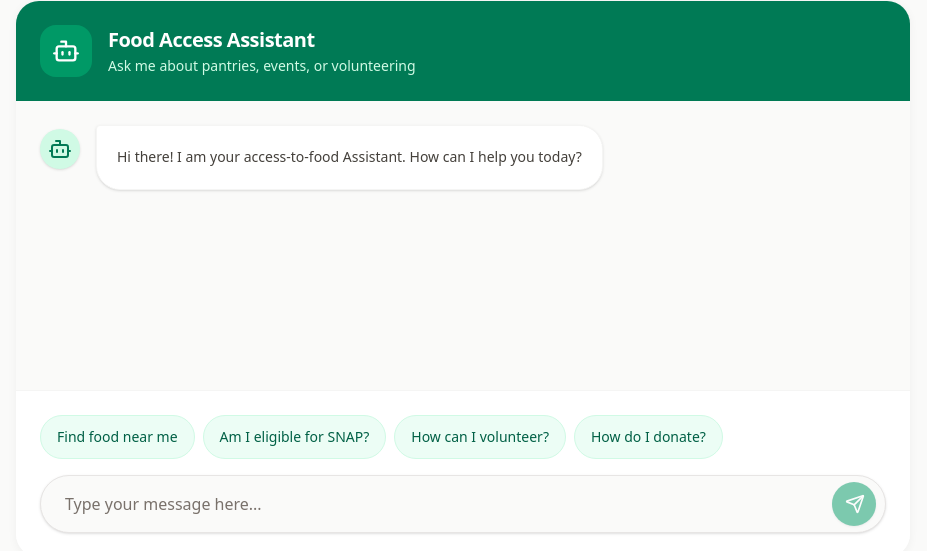
Test: Assistant tool loop › runs searchPantries, appends the tool_result turn and POSTs it back
The image size is (927, 551).
What coordinates should you click on to do the following:
click the button "Find food near me"
I would click on:
 (117, 437)
Its box is [40,415,195,459].
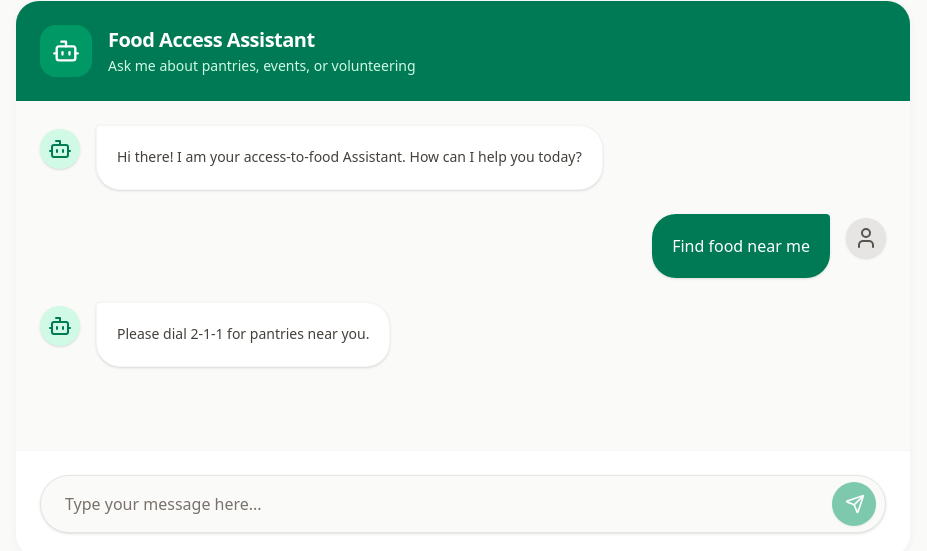
Now the text "Please dial 2-1-1 for pantries near you." is shown, box [117,323,369,346]
